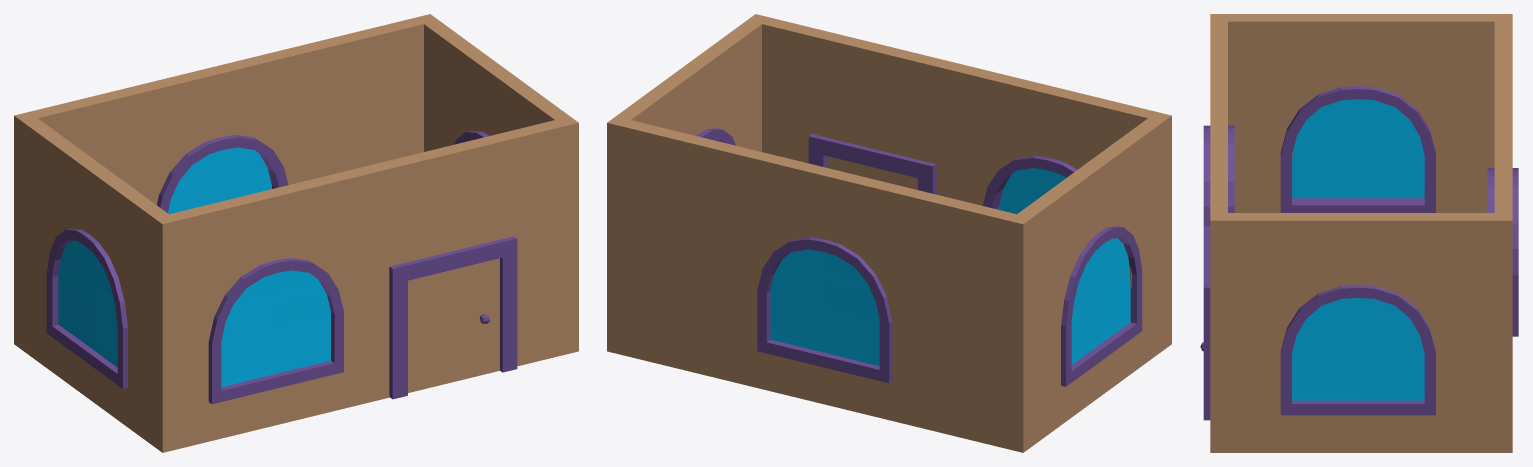
File: CajaCasa 1.4 Interior 1.fbx
3 renders of one model, left to right at view 1: azimuth 30°, elevation 25°; view 2: azimuth 150°, elevation 25°; view 3: azimuth 270°, elevation 25°, orthographic.
Visible parts, largest first — view 1: Casa 4.005; view 2: Casa 4.005; view 3: Casa 4.005.
Part boxes in pixels (x1,y1,x2,y2): Casa 4.005: [14, 14, 578, 452]; Casa 4.005: [607, 14, 1171, 452]; Casa 4.005: [1200, 14, 1518, 452].
Size of the model in its own units: 1146 by 587 by 728.
